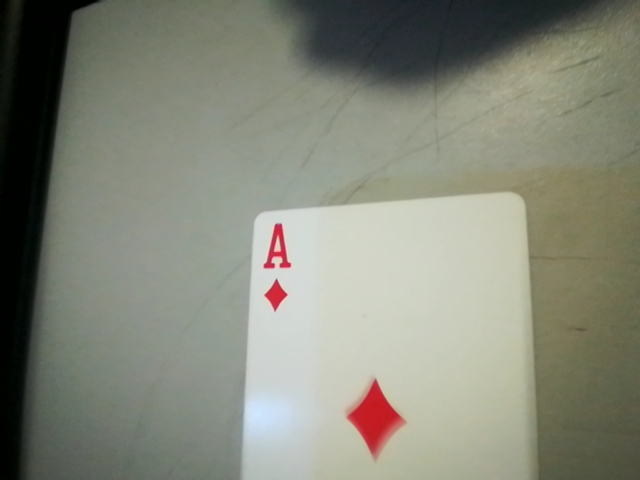fk a: (249, 215, 303, 316)
